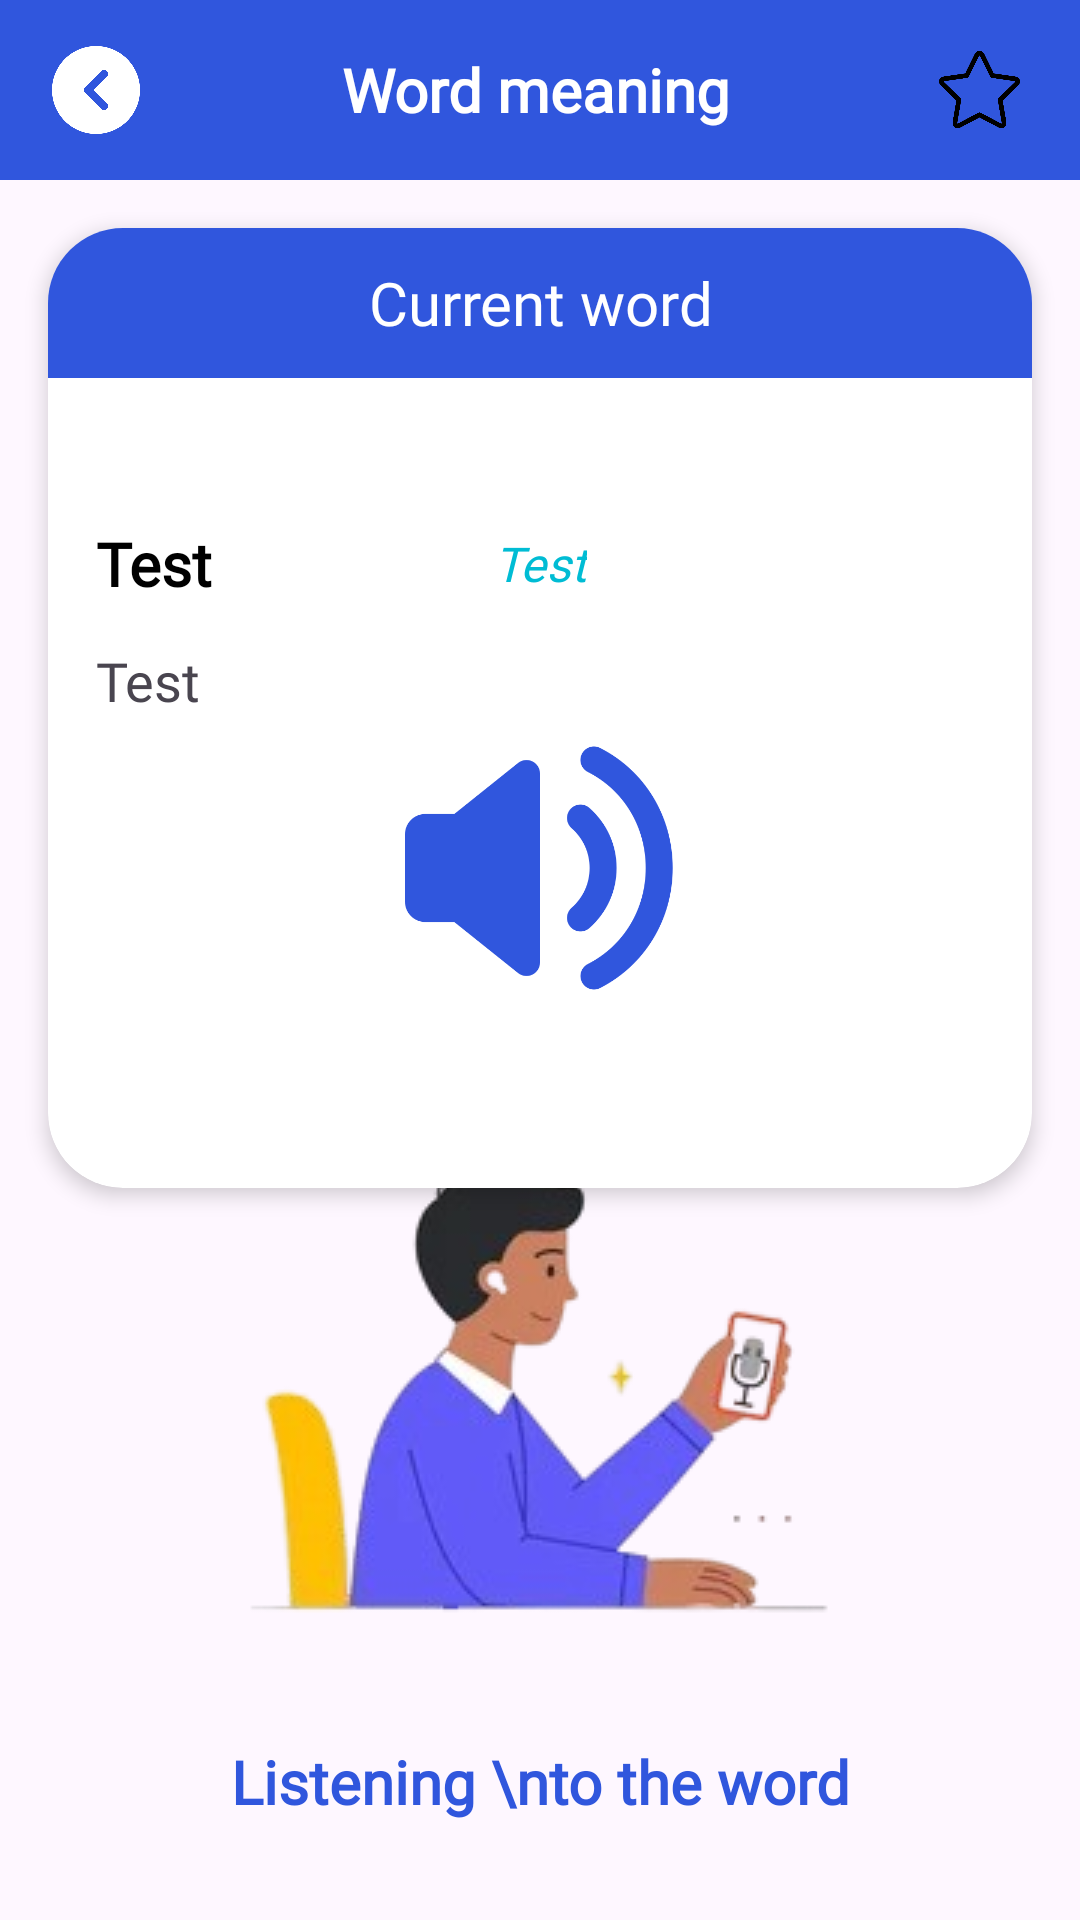

Named icons in this screenshot (1080×1920) and their bounding boxes, (x1, y1, x2, y2):
yulduz: (939, 51, 1020, 128)
